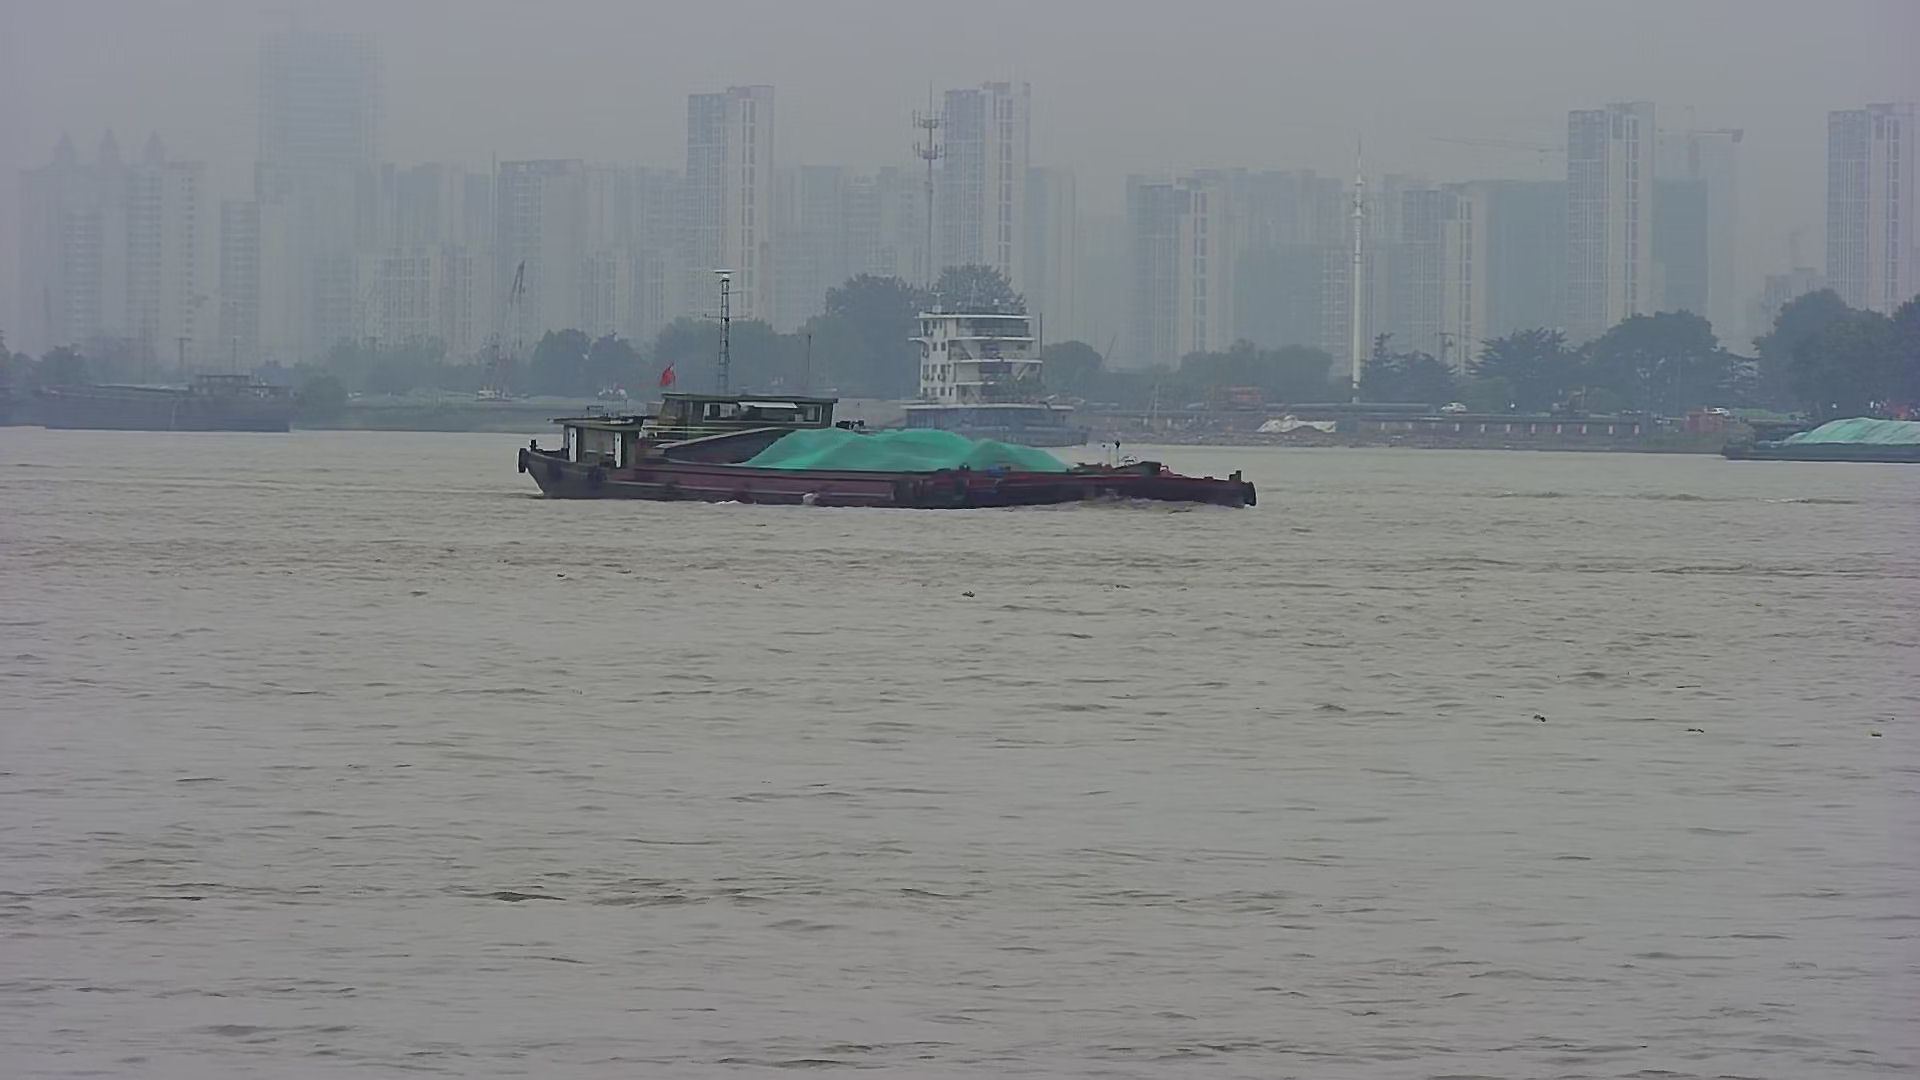ship: (477, 349, 1288, 524), (806, 289, 1120, 450), (25, 345, 324, 436)
